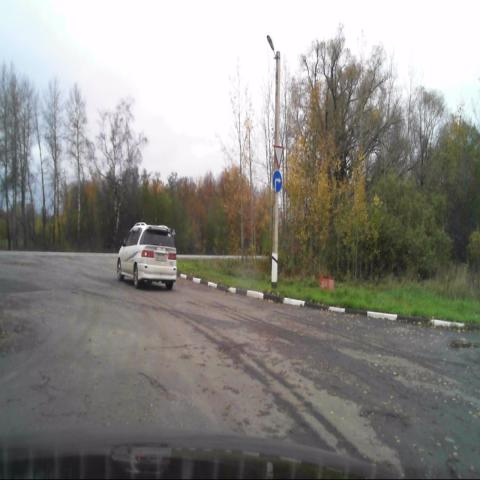4_1_2: (272, 170, 282, 193)
